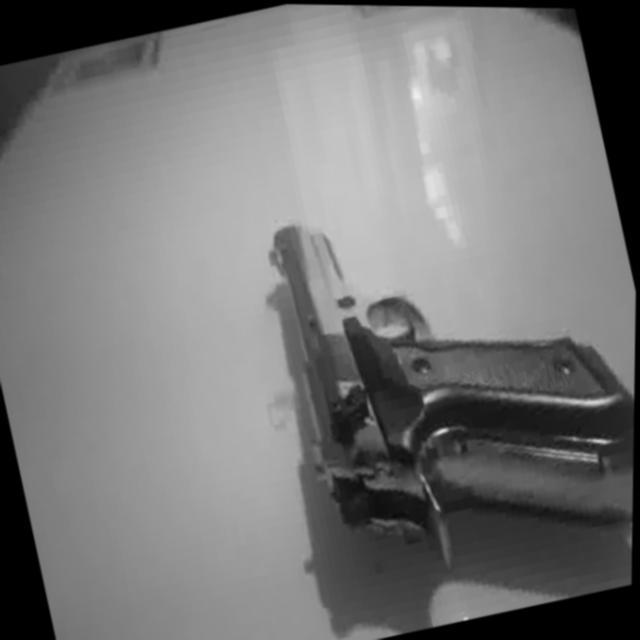weapon: (249, 148, 638, 597)
